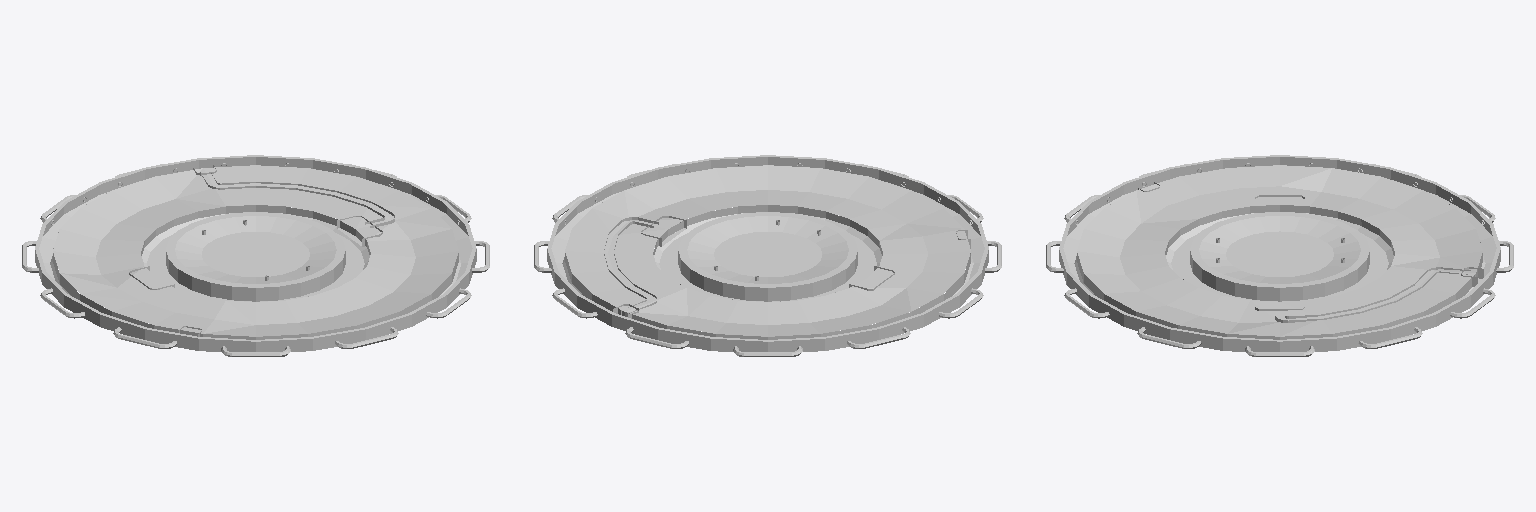
File: Endcap-25m-Crewed.obj
3 views of the same model, side by side, from view 1: azimuth 30°, elevation 25°; view 2: azimuth 150°, elevation 25°; view 3: azimuth 270°, elevation 25° (orthographic).
Parts seen in each view (by area): view 1: CapStructure, CapFoil; view 2: CapFoil, CapStructure; view 3: CapStructure, CapFoil.
Boxes of the visible parts, <box> form: CapStructure: <box>22,155,489,356</box>; CapFoil: <box>53,165,458,336</box>; CapFoil: <box>565,165,970,336</box>; CapStructure: <box>534,155,1001,356</box>; CapStructure: <box>1046,155,1513,356</box>; CapFoil: <box>1077,165,1482,336</box>.
Bounding box in the file's own units: 5.3 × 0.1902 × 5.3.